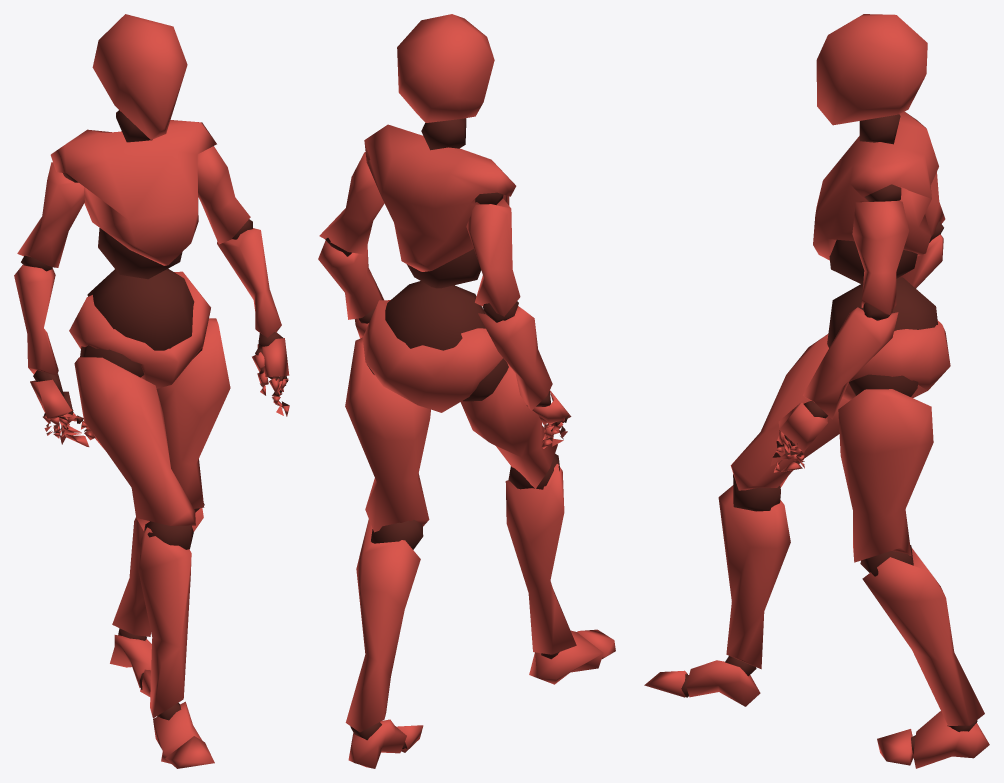
3 renders of one model, left to right at view 1: azimuth 30°, elevation 25°; view 2: azimuth 150°, elevation 25°; view 3: azimuth 270°, elevation 25°, orthographic. The views are drawn at different scales.
Visible parts, largest first — view 1: Beta_Surface; view 2: Beta_Surface; view 3: Beta_Surface.
Part boxes in pixels (x1,y1,x2,y2): Beta_Surface: (14,14,289,768); Beta_Surface: (318,14,615,768); Beta_Surface: (644,14,989,768).
Size of the model in its own units: 4.91 by 14.4 by 6.2.
